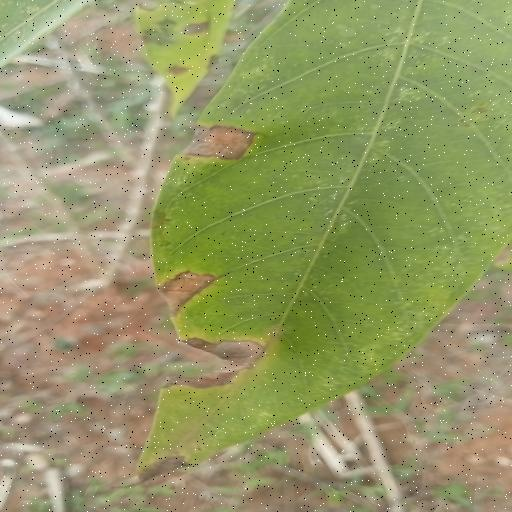Cassava_Brown_Leaf_Spot: (136, 4, 512, 478)
